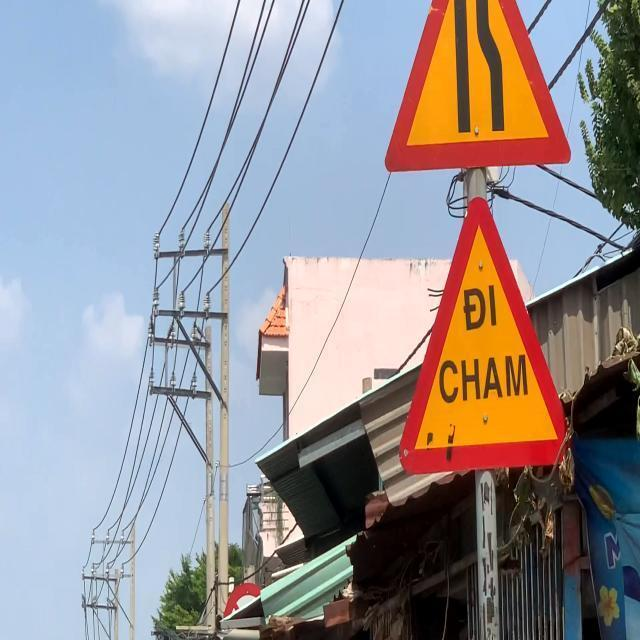203-duong-bi-hep: (380, 0, 572, 172)
245-di-cham: (400, 196, 572, 468)
